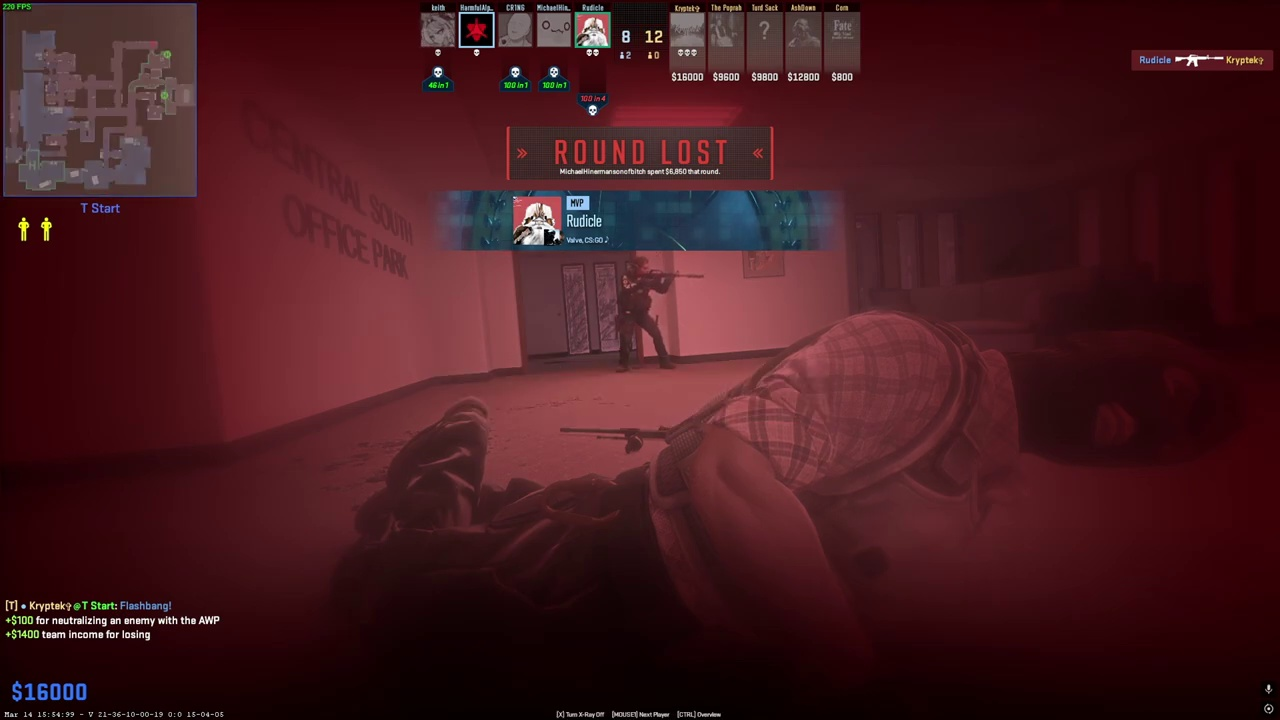CT: (616, 253, 671, 372)
